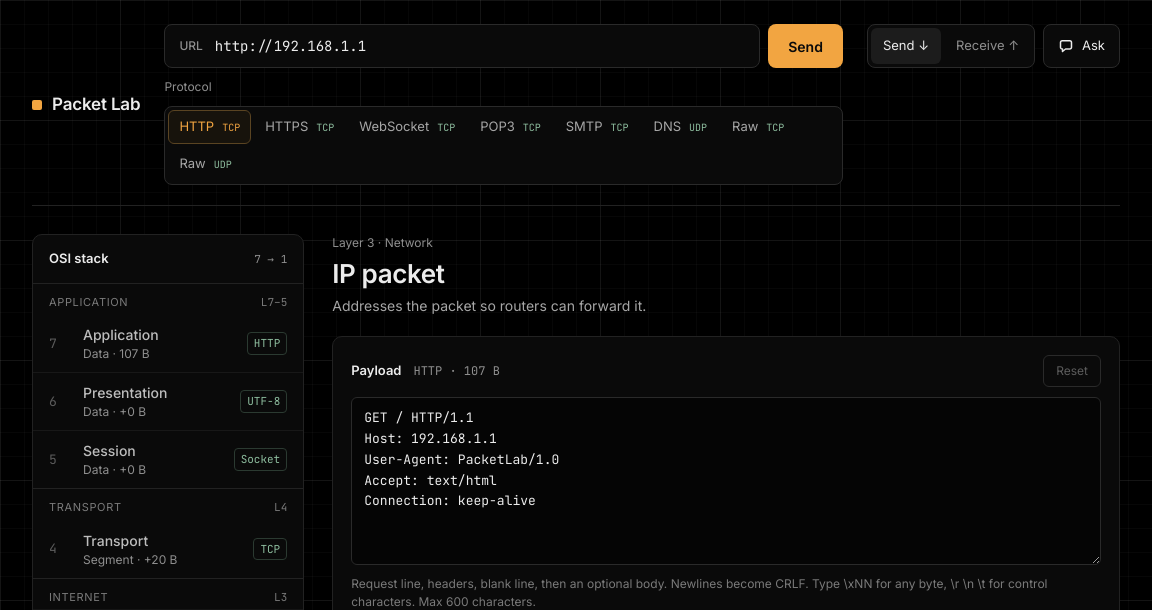
it: Chat panel › turns context back on for "Ask about this"
This screenshot has width=1152, height=610.
Step 1. Click the button "Ask" → coordinates (1082, 46), box [1043, 24, 1120, 68]
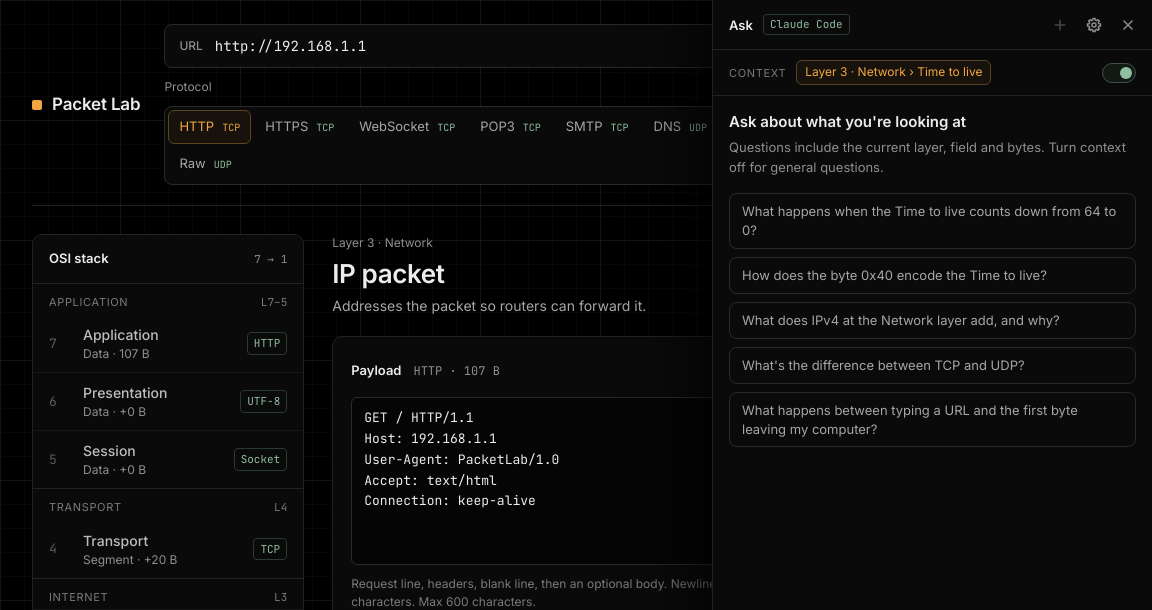
Step 2. Click the switch named "Include current step" → coordinates (1119, 73), box [1102, 63, 1136, 83]
(page scrolled)
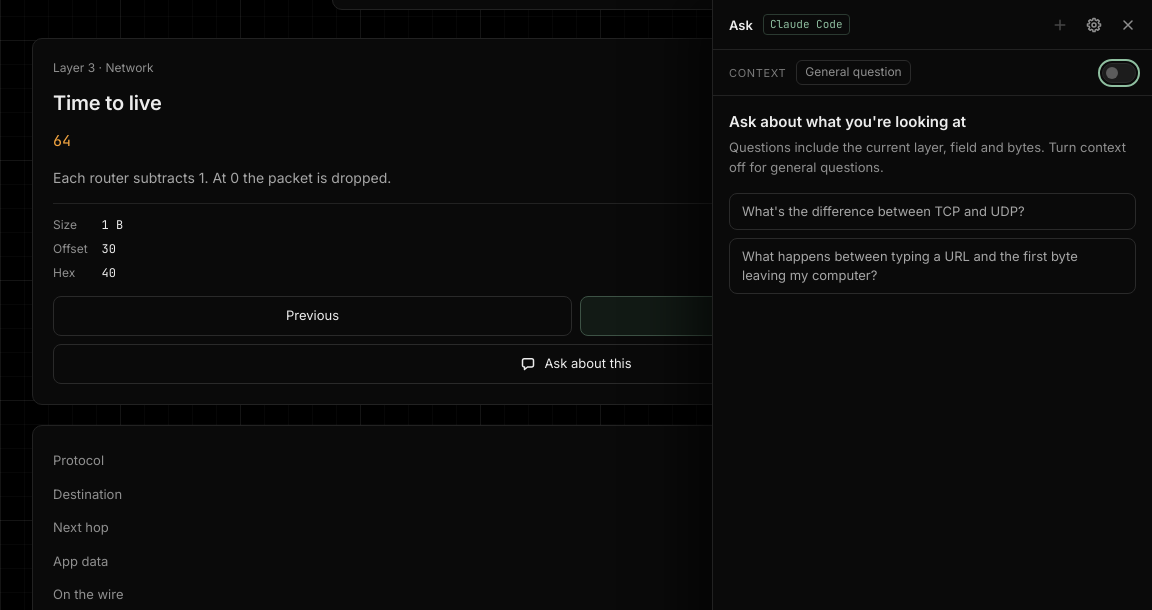
Expected: the text "General question" is shown, [796, 60, 911, 85]
Step 3. Click the button "Ask about this" → coordinates (576, 364), box [53, 344, 1099, 384]
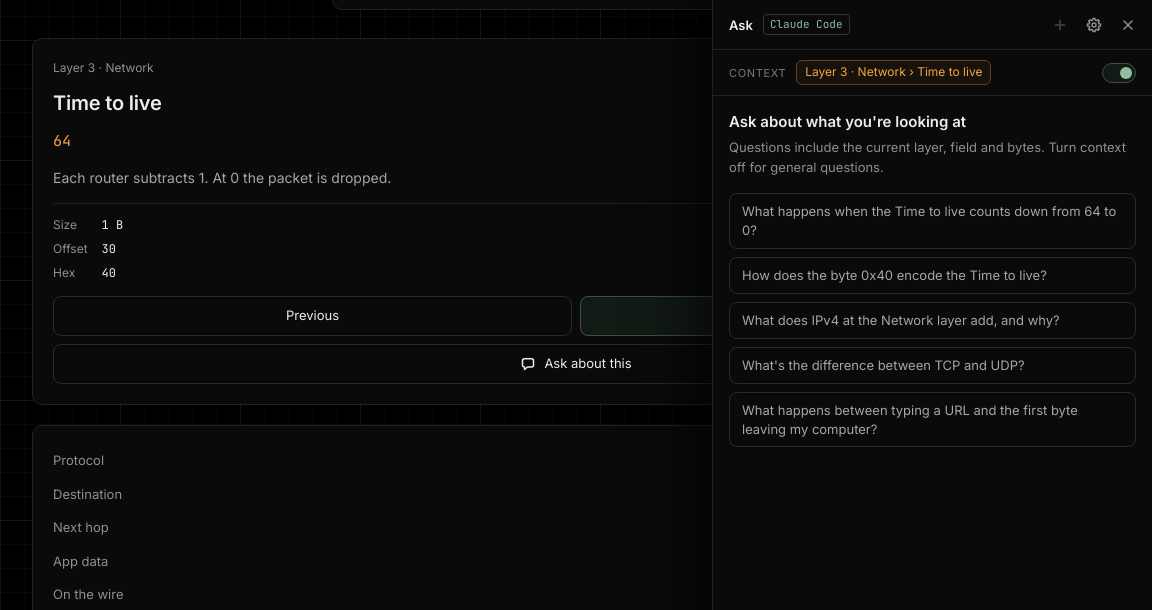
Expected: the text "Layer 3 · Network › Time to live" is shown, [796, 60, 992, 85]
